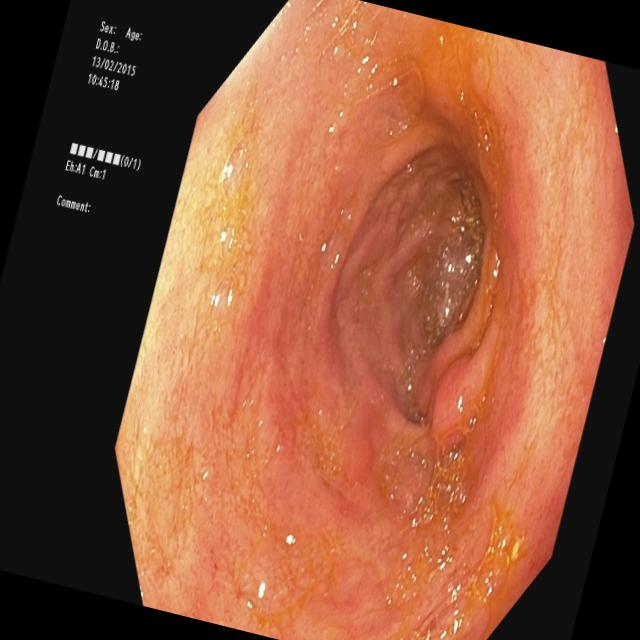ulcerative-colities: (300, 0, 533, 327), (112, 367, 357, 640), (382, 346, 552, 640), (162, 64, 278, 318)
